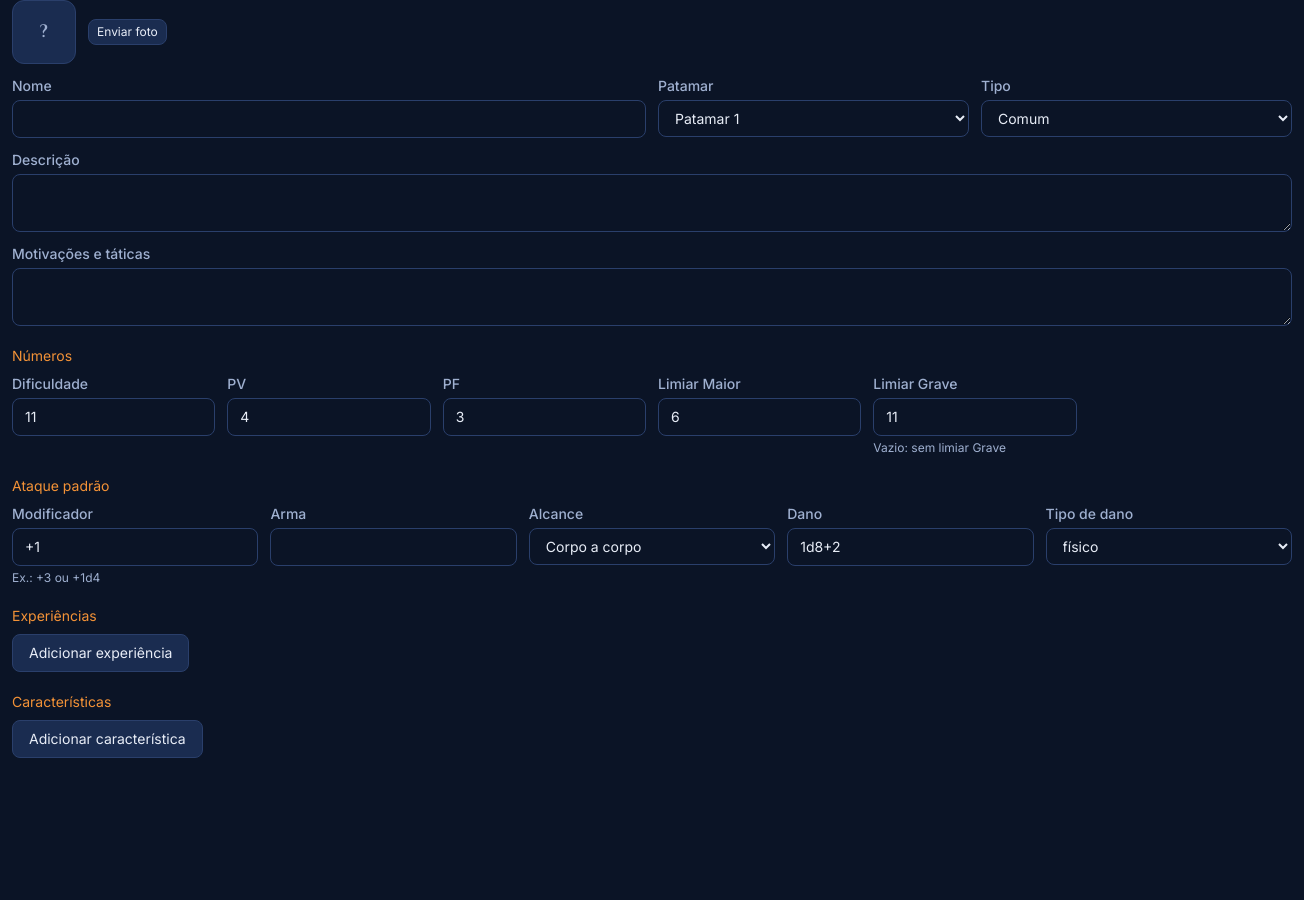
Editor de inimigo › esconde os limiares para lacaio e pede integrantes para horda
Expected: the number field labelled "Limiar Maior" is shown, [658,398,861,436]
Select "Lacaio" in the dropdown labelled "Tipo" at [1136, 118], box [981,100,1292,137]
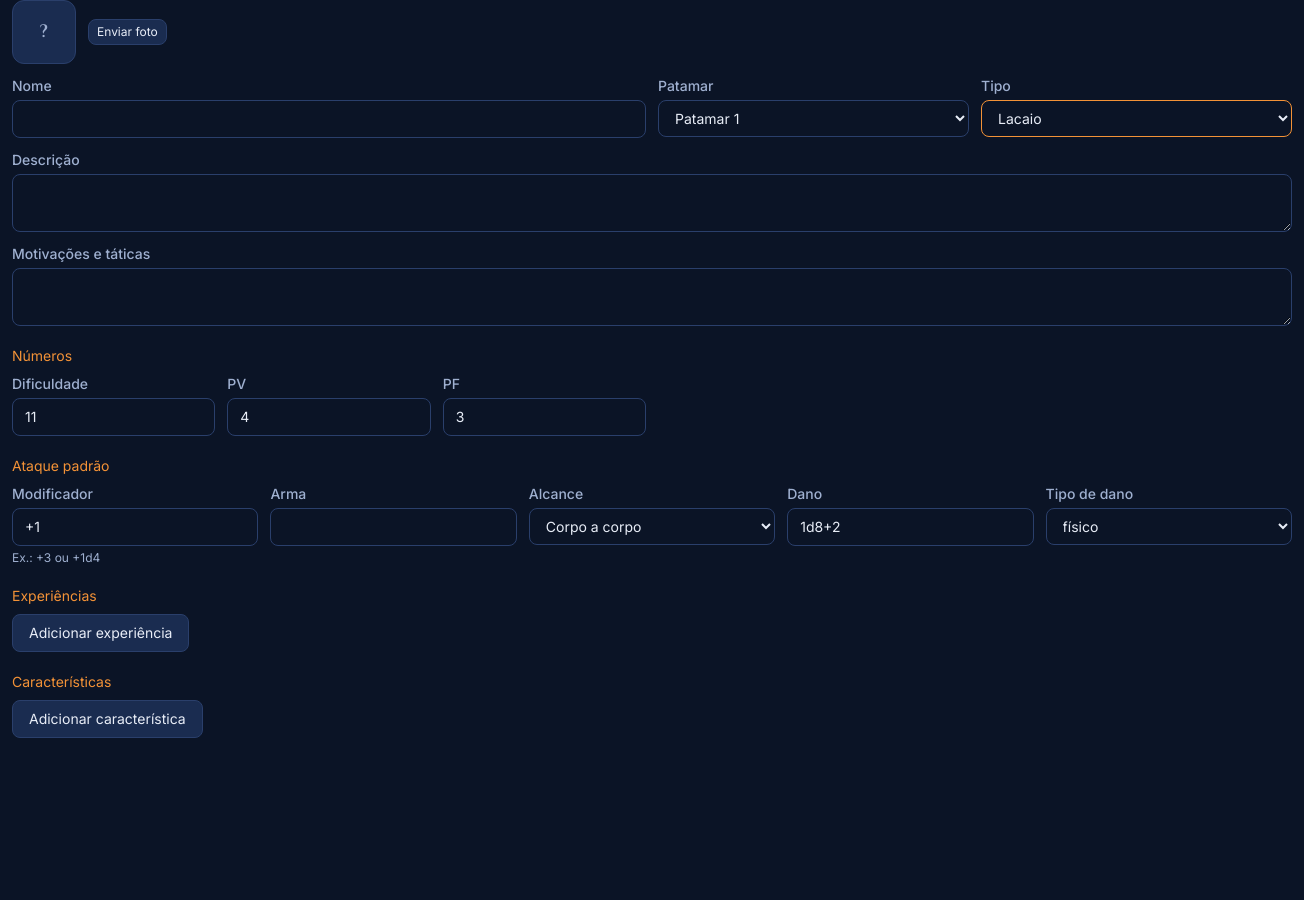
Now the text labelled "Limiar Maior" is gone
Select "Horda" in the dropdown labelled "Tipo" at [1136, 118], box [981,100,1292,137]
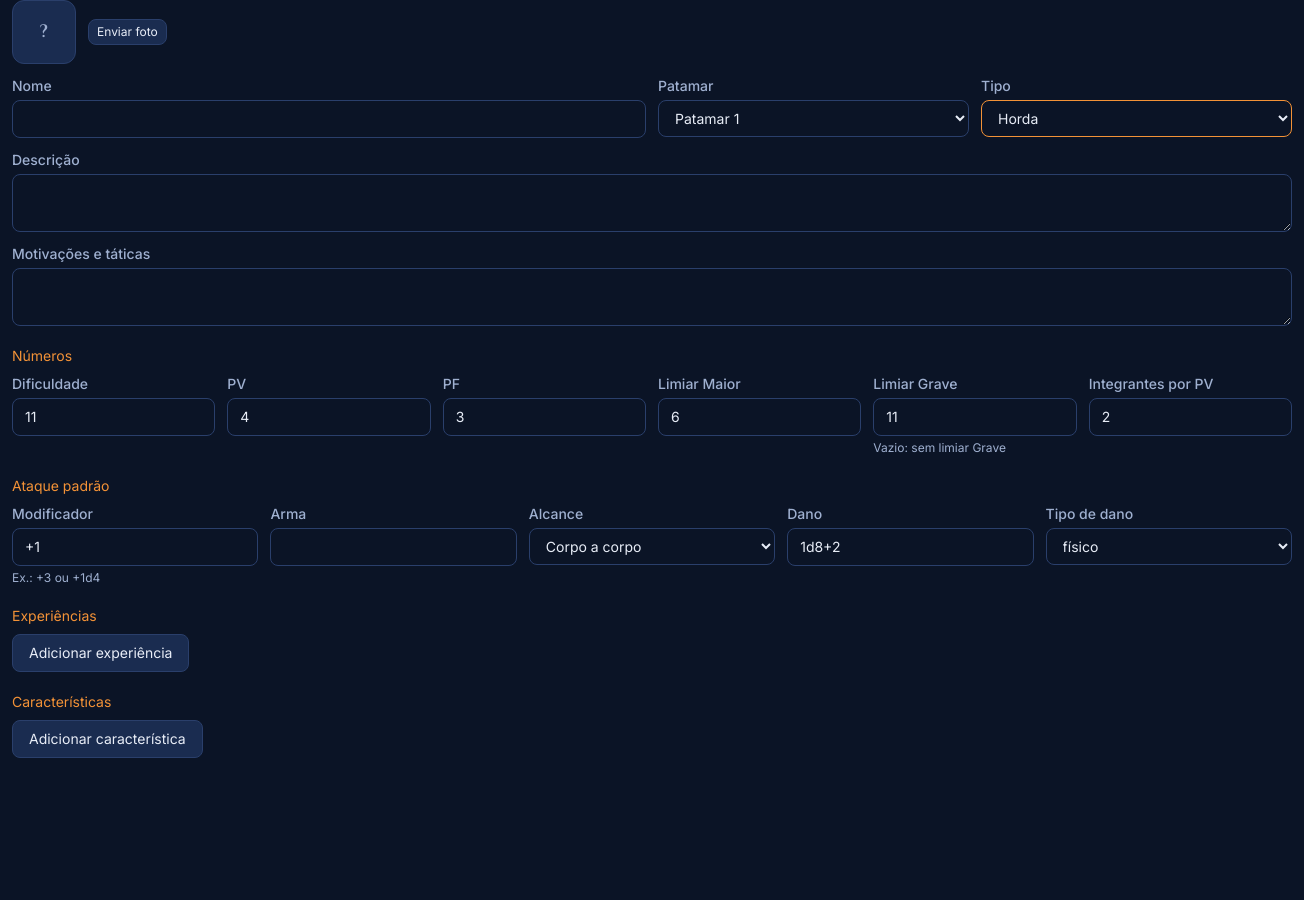
Now the number field labelled "Limiar Maior" holds "6", box [658,398,861,436]
Now the number field labelled "Integrantes por PV" holds "2", box [1089,398,1292,436]
